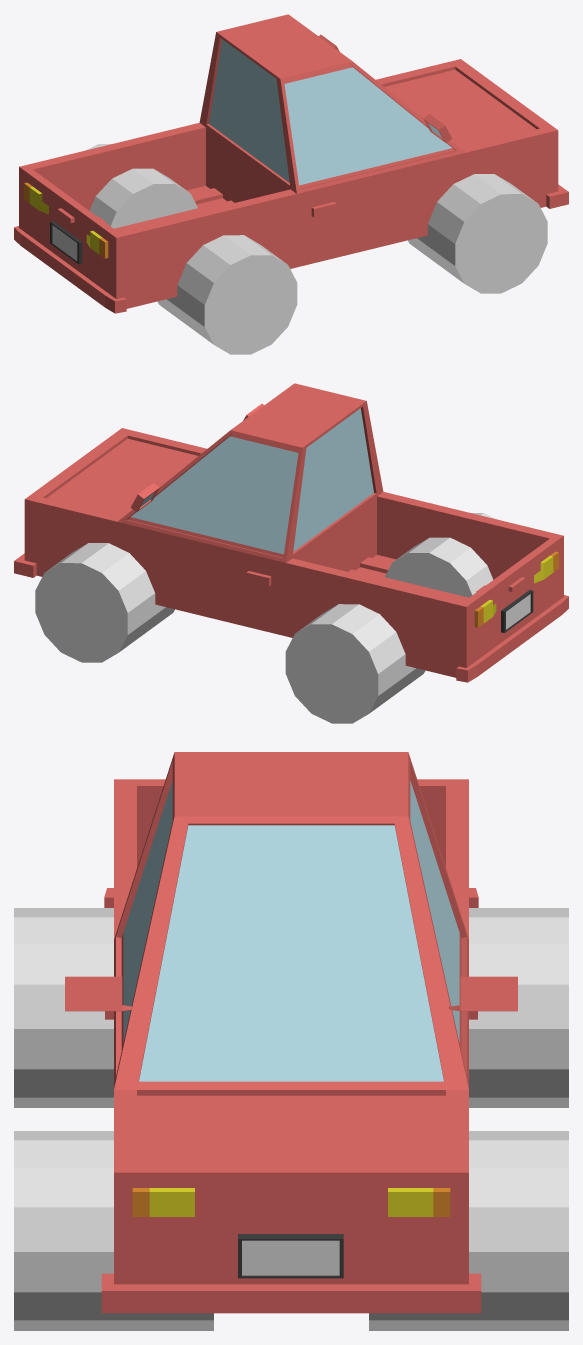
File: pickup_roja.fbx
3 renders of one model, top to bottom at view 1: azimuth 30°, elevation 25°; view 2: azimuth 150°, elevation 25°; view 3: azimuth 270°, elevation 25°, orthographic. The views are drawn at different scales.
Visible parts, largest first — view 1: Cube, Cylinder.001, Cylinder, Cube.003, Cube.004; view 2: Cube, Cylinder.001, Cylinder, Cube.003, Cube.004; view 3: Cube, Cylinder, Cylinder.001, Cube.002, Cube.004, Cube.001.
Part boxes in pixels (x1,y1,x2,y2): Cube: [14, 14, 568, 313]; Cylinder.001: [86, 144, 297, 354]; Cylinder: [408, 174, 547, 293]; Cube.003: [50, 221, 82, 264]; Cube.004: [318, 34, 452, 143]; Cube: [14, 383, 568, 682]; Cylinder.001: [285, 513, 496, 723]; Cylinder: [35, 543, 174, 662]; Cube.003: [501, 590, 533, 632]; Cube.004: [130, 403, 264, 512]; Cube: [101, 752, 481, 1313]; Cylinder: [14, 1131, 568, 1330]; Cylinder.001: [14, 908, 568, 1107]; Cube.002: [238, 1234, 343, 1278]; Cube.004: [65, 976, 517, 1011]; Cube.001: [132, 1188, 450, 1216].
Size of the model in its own units: 895 by 425 by 520.
